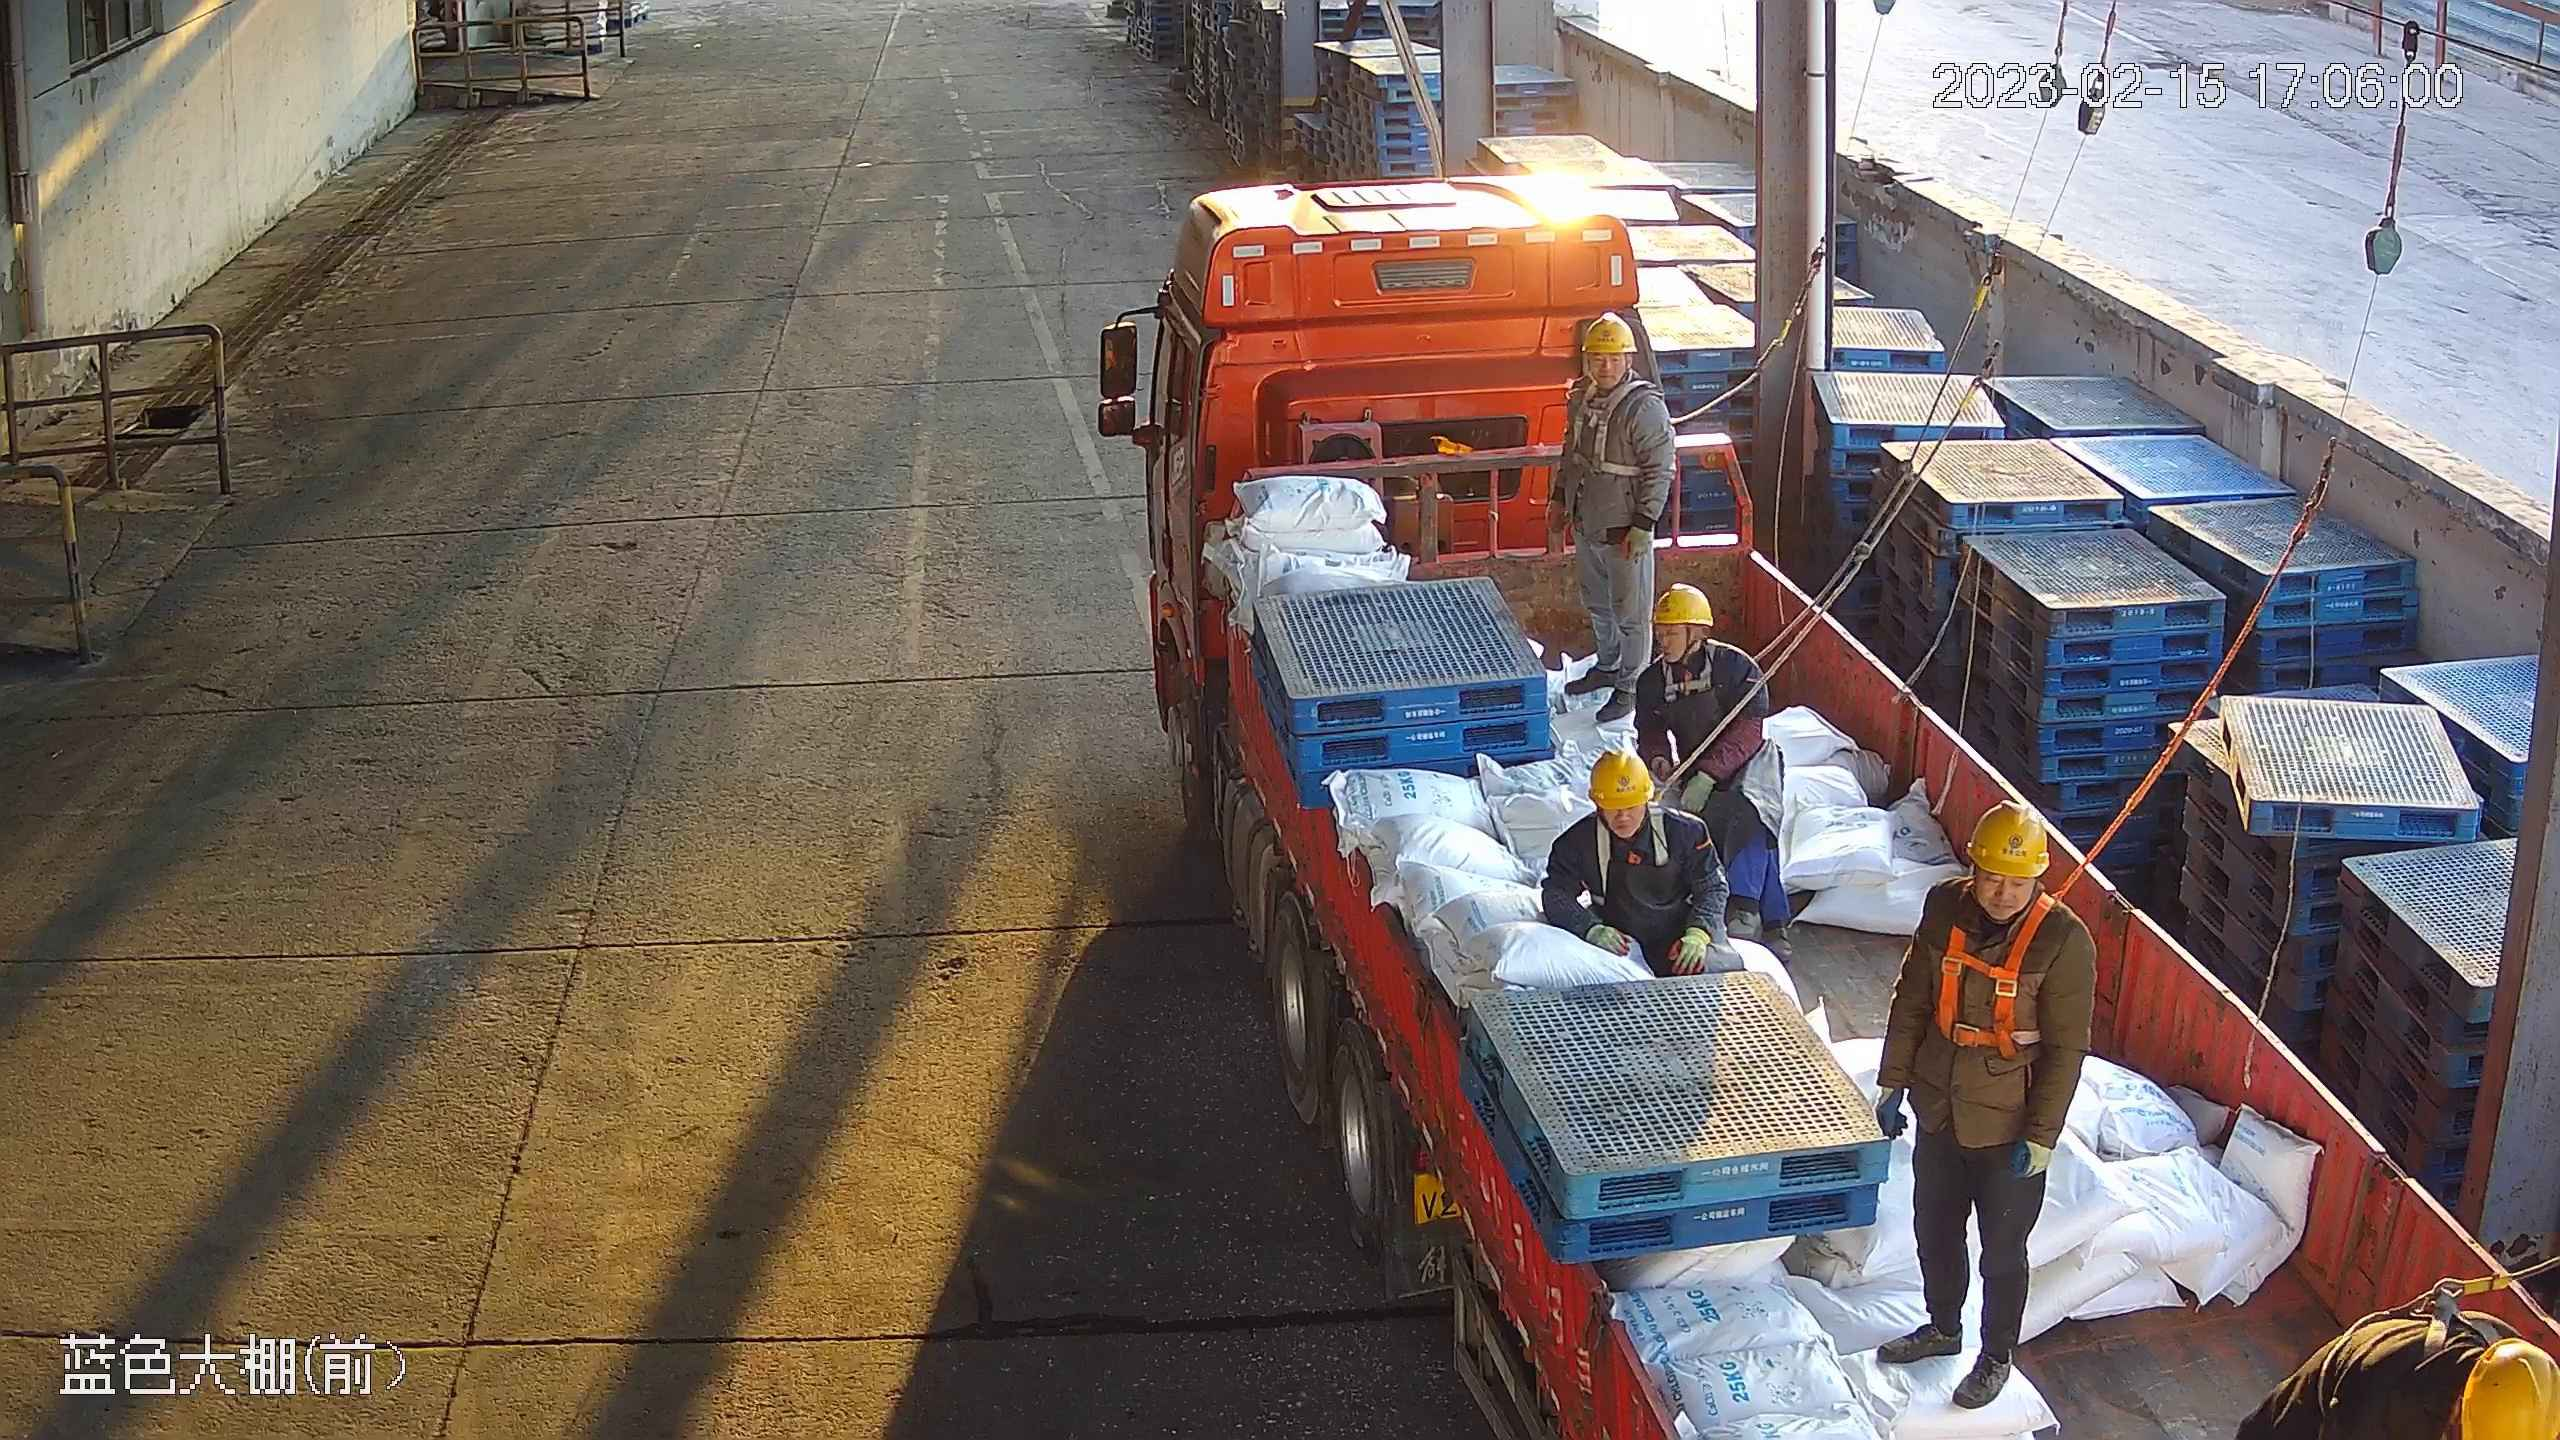belt: (1938, 894, 2052, 1053), (1571, 381, 1656, 483), (1584, 814, 1674, 891), (1656, 647, 1720, 699)
head: (1911, 801, 2098, 1000), (2333, 1293, 2560, 1440), (1564, 750, 1706, 873), (1636, 579, 1761, 695), (1551, 317, 1668, 440)
helmet: (2461, 1336, 2558, 1440), (1964, 802, 2049, 876), (1587, 752, 1654, 809), (1652, 583, 1712, 629), (1582, 312, 1638, 356)
people: (1873, 799, 2100, 1410), (1635, 580, 1796, 962), (1544, 314, 1678, 726), (1540, 750, 1745, 972)
truck: (1095, 171, 2560, 1440)
